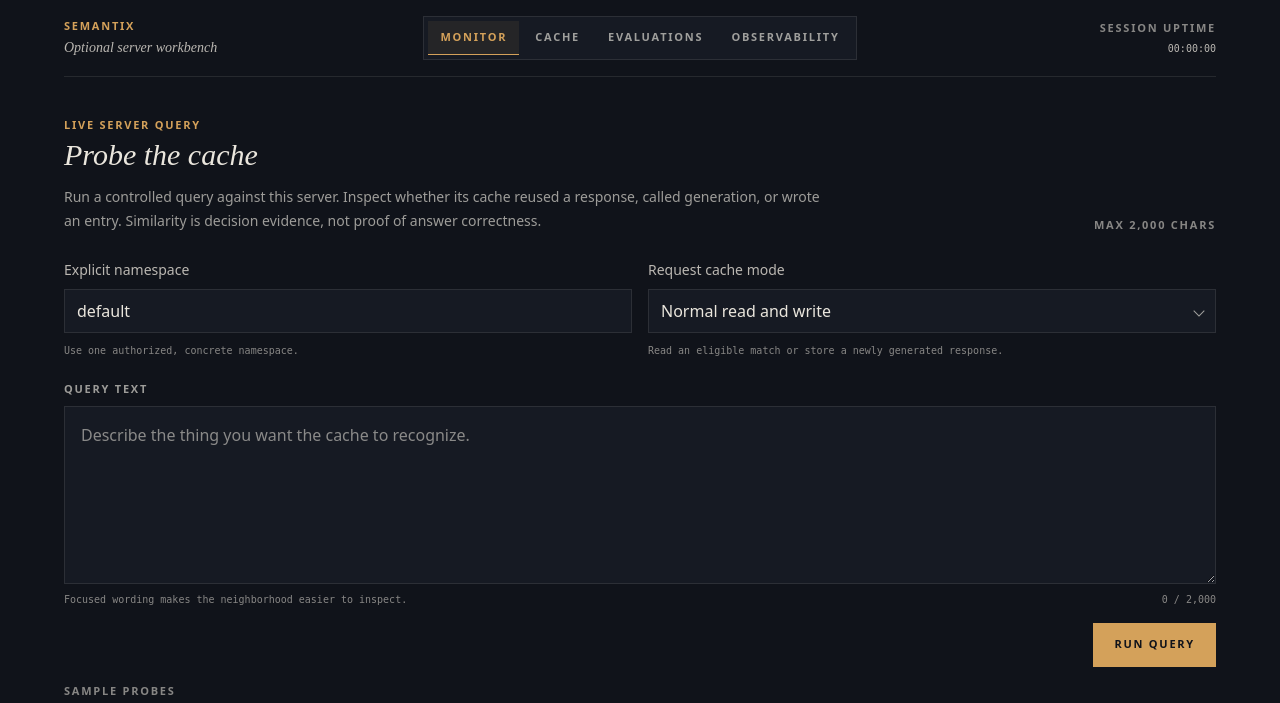
it: dashboard correctness › omits private prompt and response content from recent query traces
Step 1. Click the button named "Request cache mode" → (746, 311), box x1=648 y1=289 x2=1216 y2=333
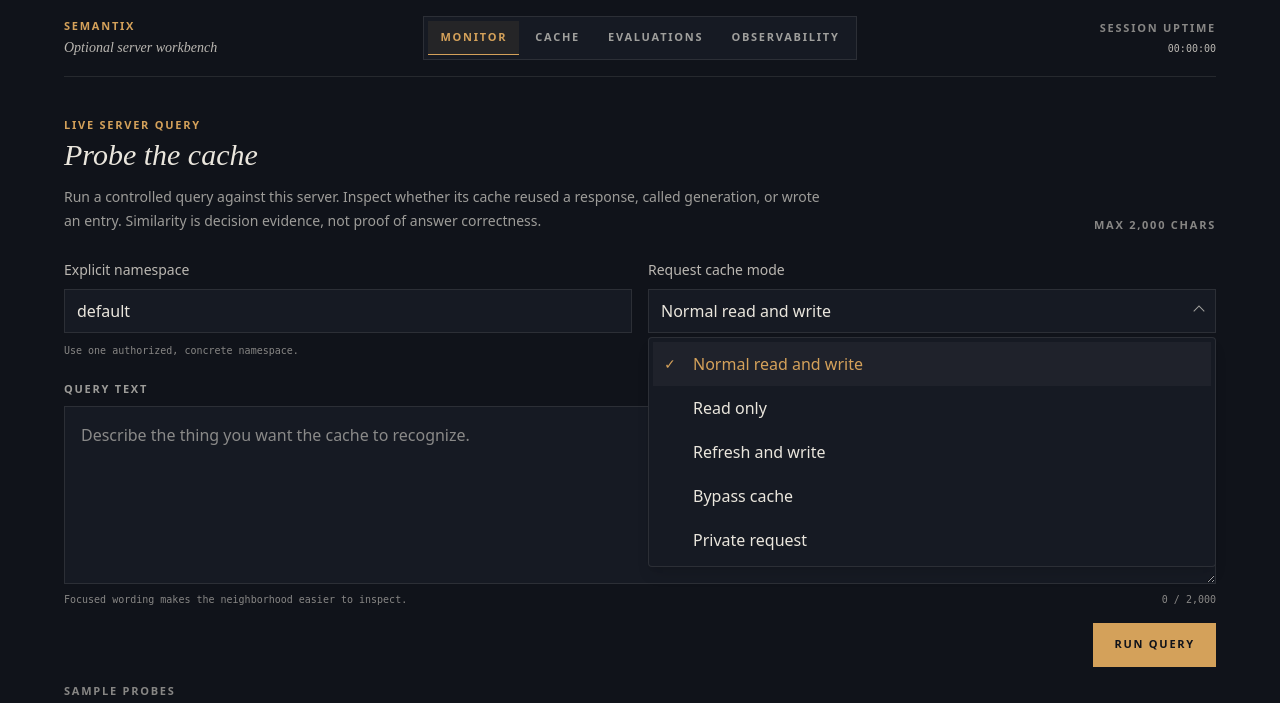
Step 2. Click the option "Private request" → (750, 540), box x1=653 y1=518 x2=1211 y2=562
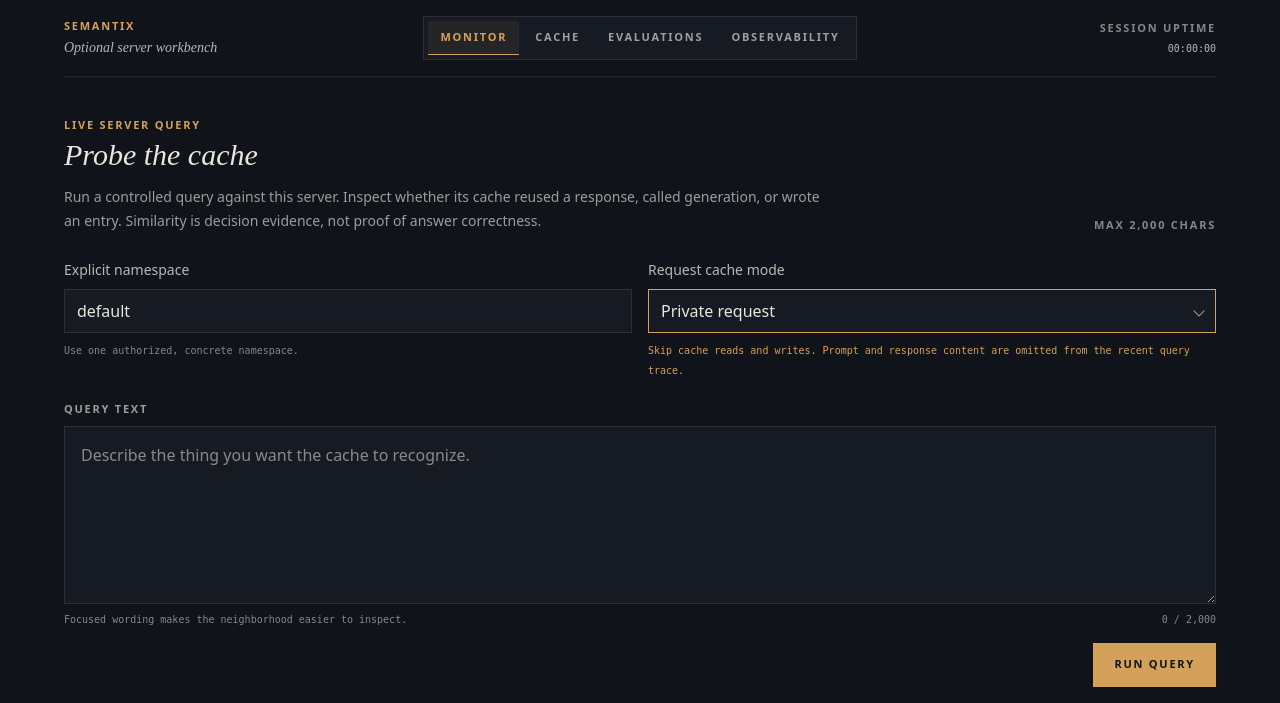
Step 3. Type "Private customer incident" into the text box labelled "Query text" → (640, 514), box x1=64 y1=426 x2=1216 y2=604
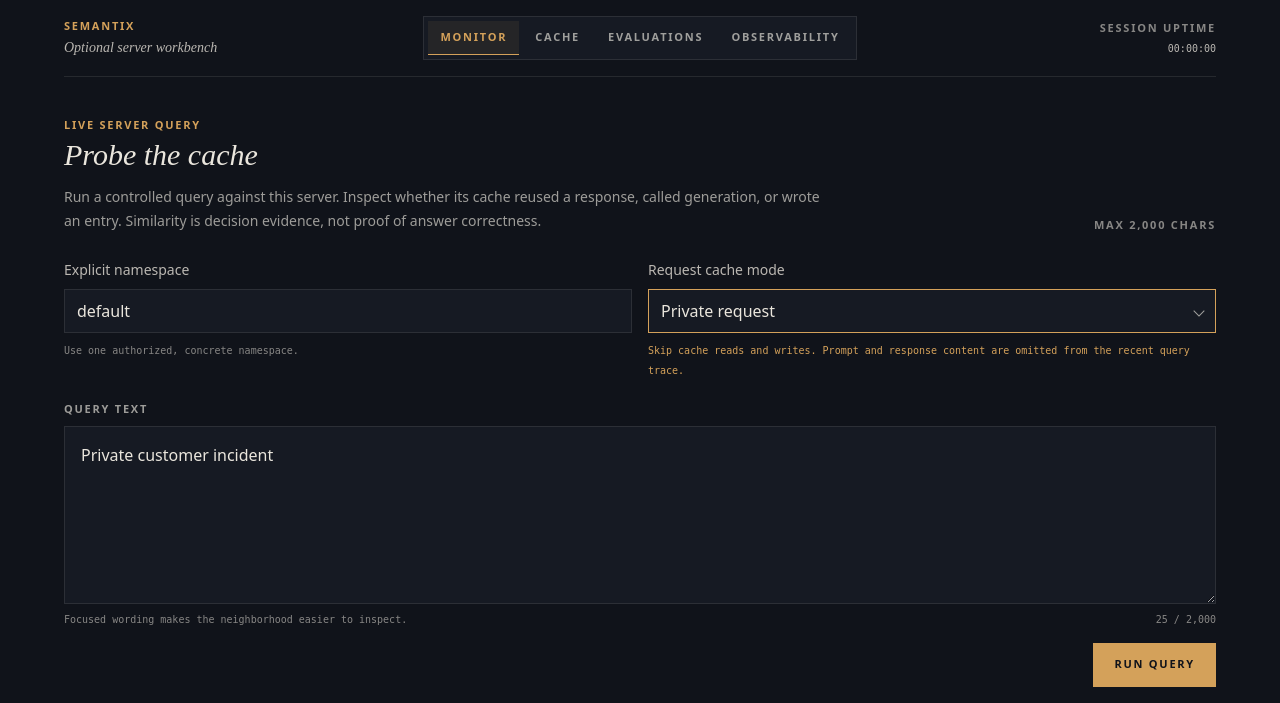
Step 4. Click the button "Run query" → (1155, 664), box x1=1093 y1=642 x2=1216 y2=686
(page scrolled)
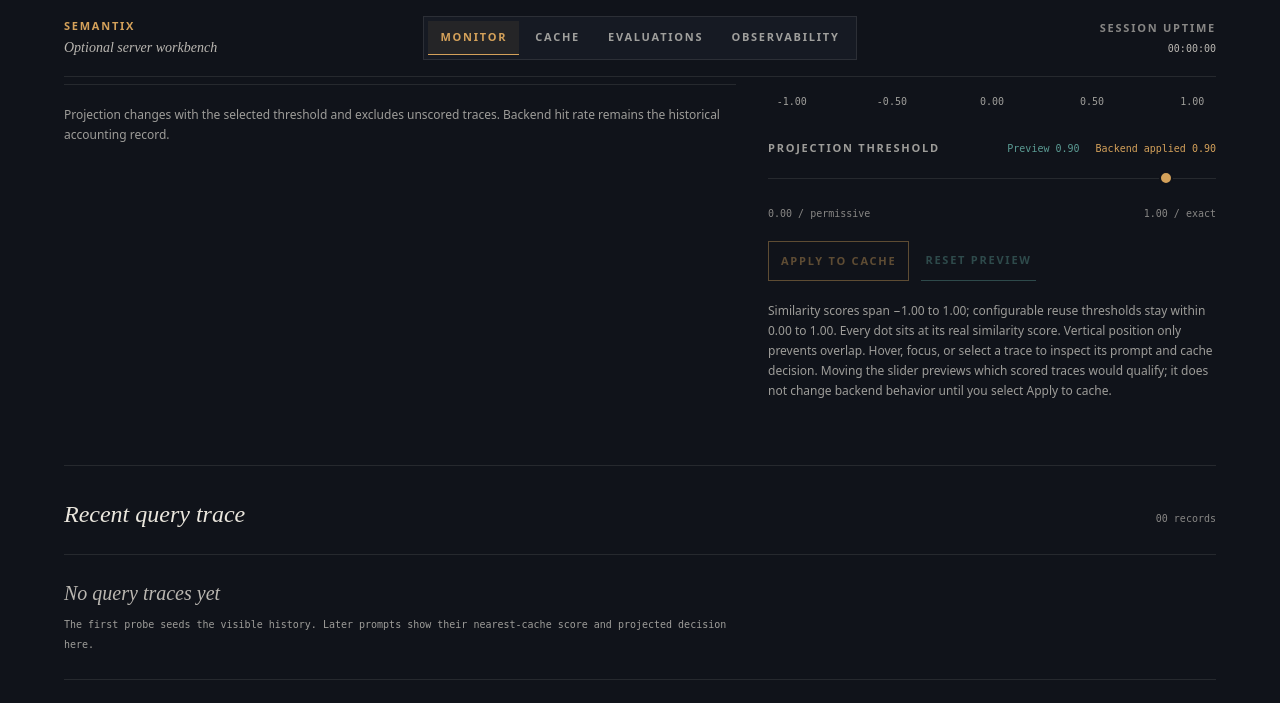
Expected: the text "Private customer incident" is not shown
Now the element "Recent query trace" is shown, box x1=64 y1=465 x2=1216 y2=680
Now the text "00 records" is shown, box x1=1156 y1=511 x2=1216 y2=526
